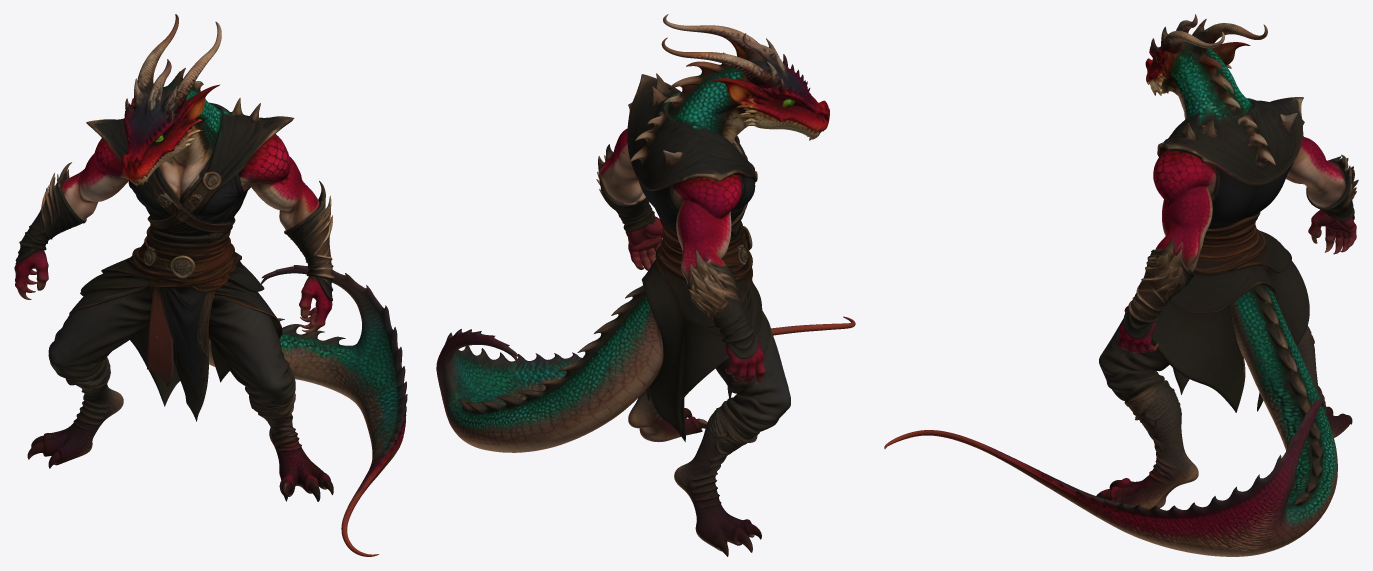
Rendered from dragonborn_rogue_full_male_01.glb.
3 renders of one model, left to right at view 1: azimuth 30°, elevation 25°; view 2: azimuth 150°, elevation 25°; view 3: azimuth 270°, elevation 25°, orthographic. The views are drawn at different scales.
Visible parts, largest first — view 1: material; view 2: material; view 3: material.
Boxes of the visible parts, left/top/right/bottom form: material: left=14, top=14, right=407, bottom=556; material: left=436, top=14, right=855, bottom=556; material: left=884, top=14, right=1358, bottom=556.
Size of the model in its own units: 0.6375 by 0.7898 by 0.7499.
Materials: 1 (1 with a texture image).
